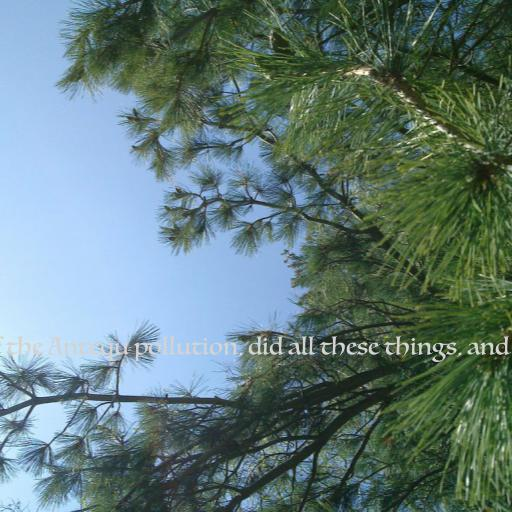Luminari: (0, 336, 512, 363)
